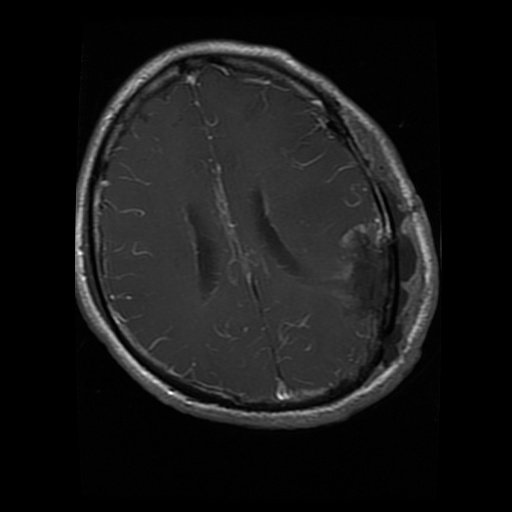glioma: (336, 218, 416, 326)
